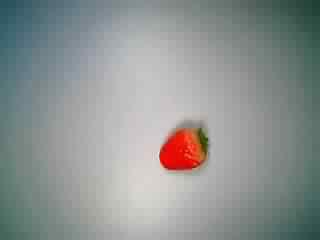strawberry: (148, 121, 214, 183)
